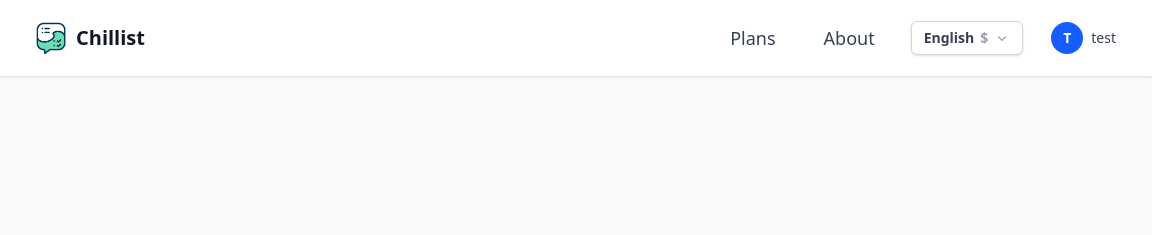
it: Header › authenticated - user dropdown › shows Sign Out option in dropdown
Click the button with aria-label "User menu" at point(1084, 38), box 1047,18 -> 1120,58
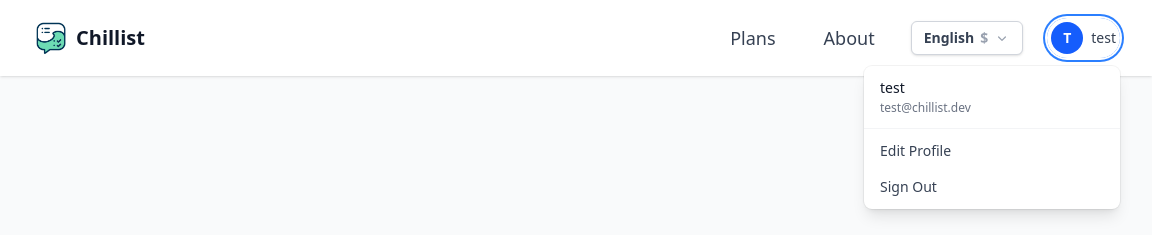
Check: the button "Sign Out" is shown, box 864,169 -> 1120,205
